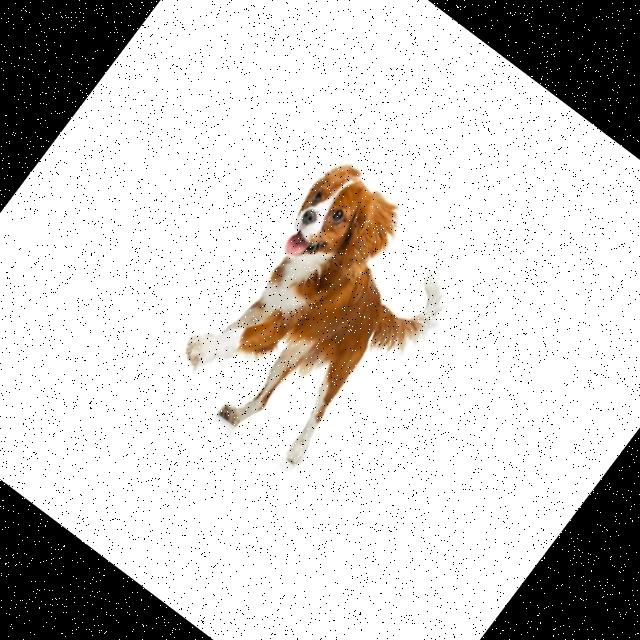Dog: (162, 149, 482, 488)
